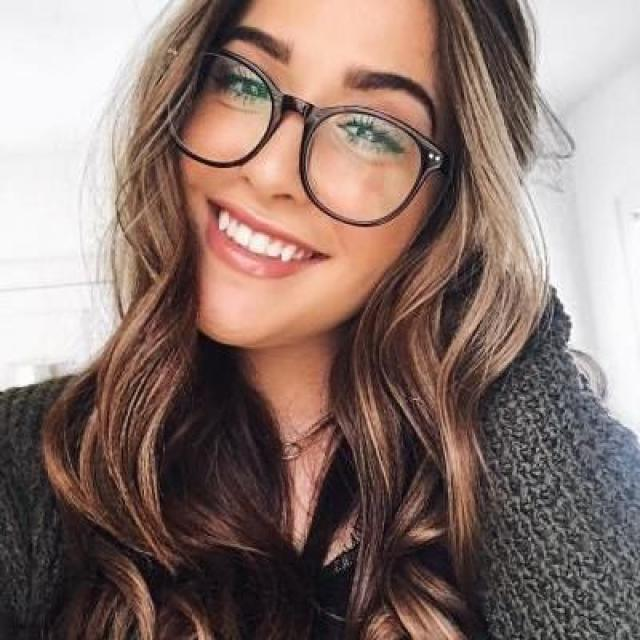Glasses: (168, 38, 456, 231)
